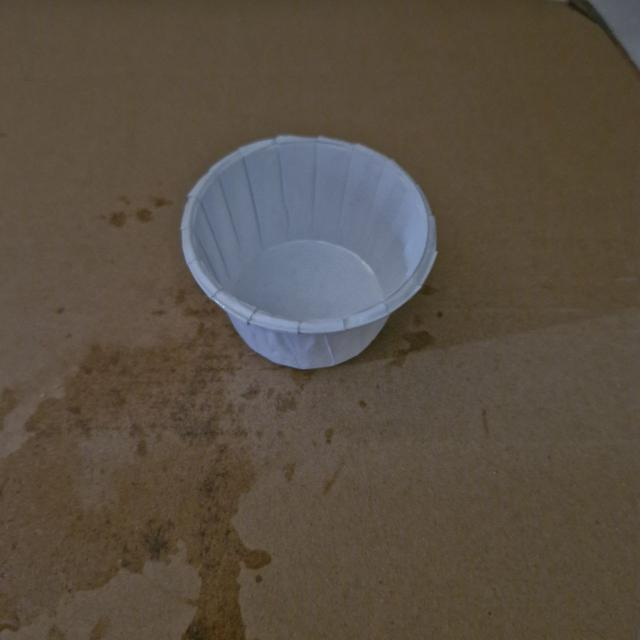paper: (175, 126, 443, 374)
